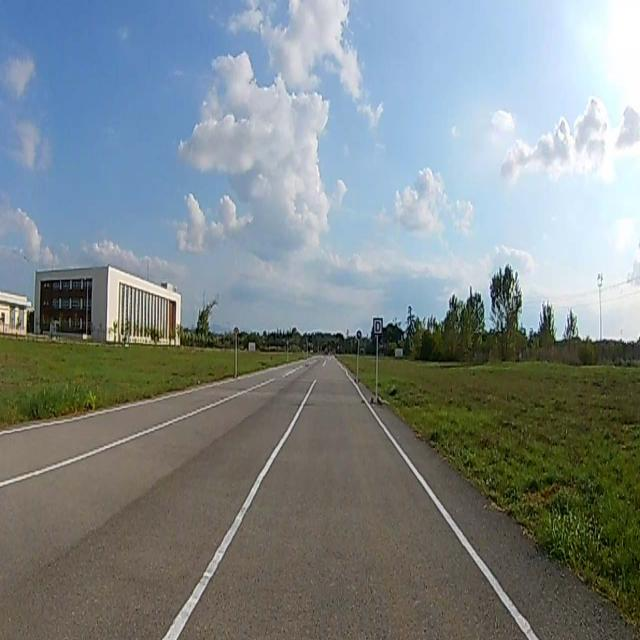durak: (373, 317, 383, 335)
